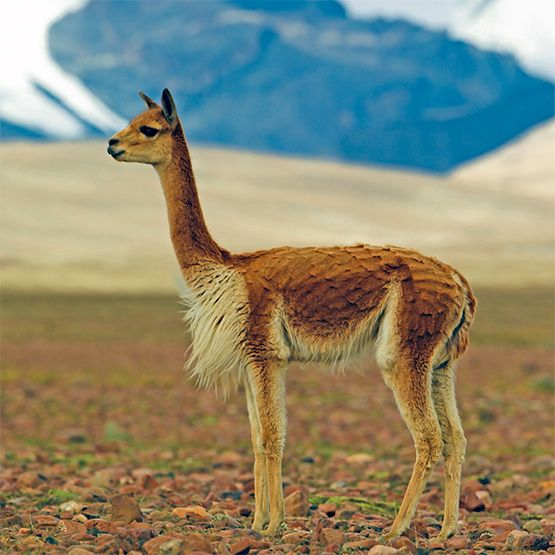eye: (135, 125, 164, 144)
mouth: (103, 141, 129, 164)
